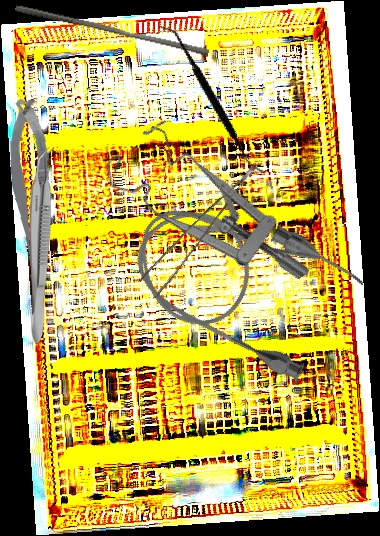Cannula: (113, 171, 371, 391)
Micro Scissor: (2, 99, 54, 279)
Pusher: (13, 4, 211, 57)
Spatula Surgical: (120, 23, 303, 175)
Speculum: (95, 95, 312, 338)
Tissue Forceps: (132, 164, 277, 299), (29, 147, 55, 343)
